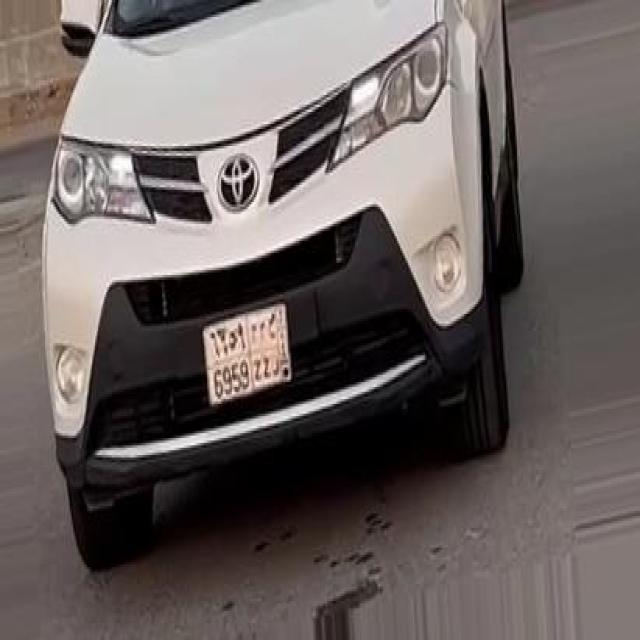Car-plate: (193, 289, 317, 419)
